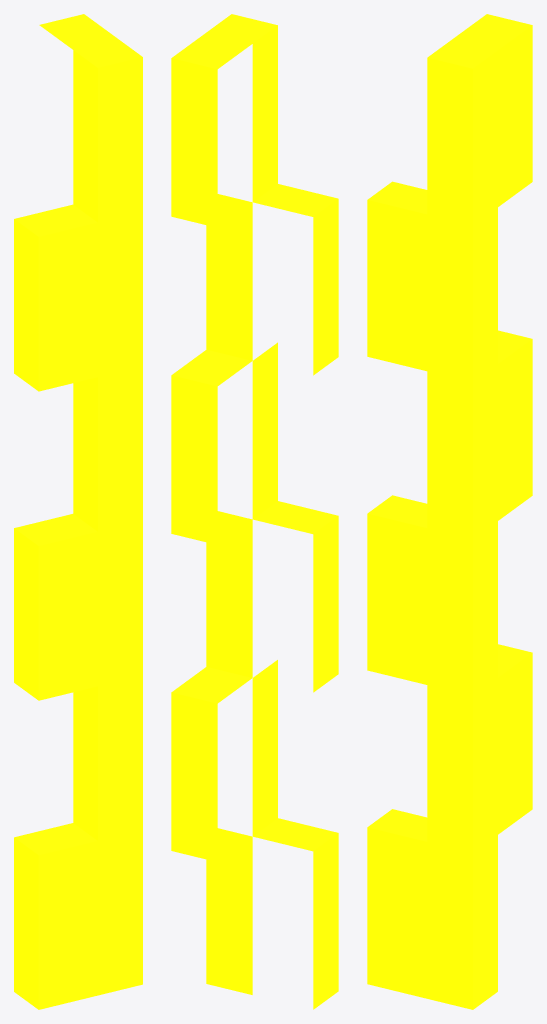
Rendered from corner-trim.glb.
The picture shows the model from 3 angles, left to right: view 1: azimuth 30°, elevation 25°; view 2: azimuth 150°, elevation 25°; view 3: azimuth 330°, elevation 25°; orthographic projection. The views are drawn at different scales.
Visible parts, largest first — view 1: CornerTrimBFull; view 2: CornerTrimBFull; view 3: CornerTrimBFull.
Part boxes in pixels (x1,y1,x2,y2): CornerTrimBFull: (14, 14, 142, 1009); CornerTrimBFull: (171, 14, 338, 1009); CornerTrimBFull: (367, 14, 532, 1009).
Bounding box in the file's own units: 0.3524 × 3 × 0.3446.
1 material, 1 textured.
